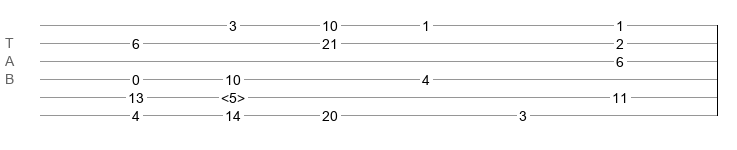0: (132, 72, 140, 82)
1: (422, 18, 430, 28), (616, 18, 624, 28)
10: (225, 72, 241, 82), (322, 18, 338, 28)
11: (612, 90, 628, 100)
13: (128, 90, 144, 100)
14: (225, 108, 241, 118)
2: (616, 36, 624, 46)
20: (322, 108, 338, 118)
21: (322, 36, 338, 46)
3: (229, 18, 237, 28), (519, 108, 527, 118)
4: (132, 108, 140, 118), (422, 72, 430, 82)
6: (132, 36, 140, 46), (616, 54, 624, 64)
harmonic: (221, 90, 245, 100)
